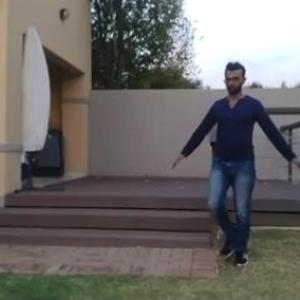land: (171, 59, 299, 268)
